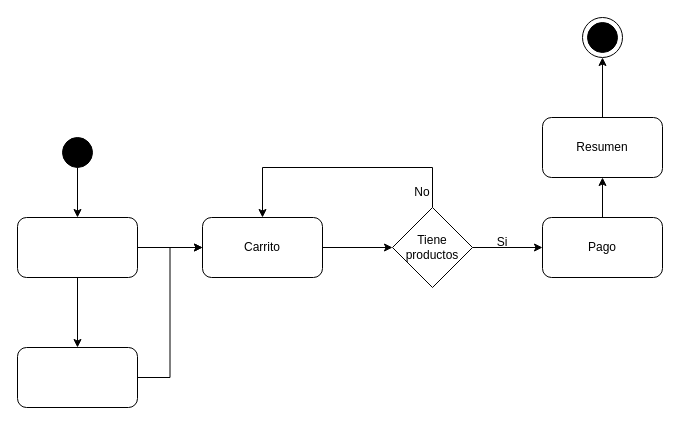
Some shapes in this 680 by 425 pixel diagram are drawn without their labels. The centre of each missing label's shape, as x and y in pixels:
Pagina Inicio: the point at 77,247
Productos: the point at 77,377
